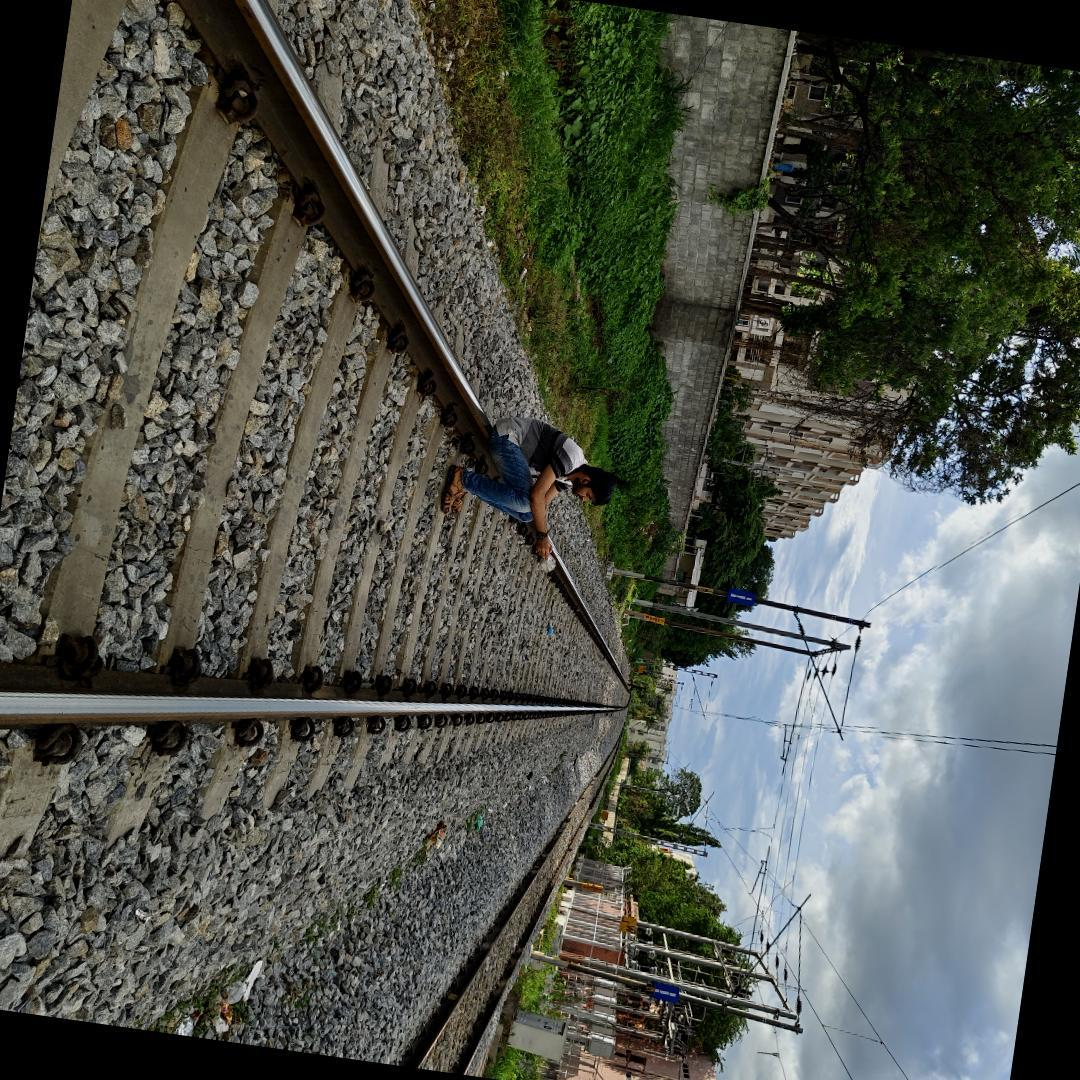sitting: (420, 409, 630, 590)
